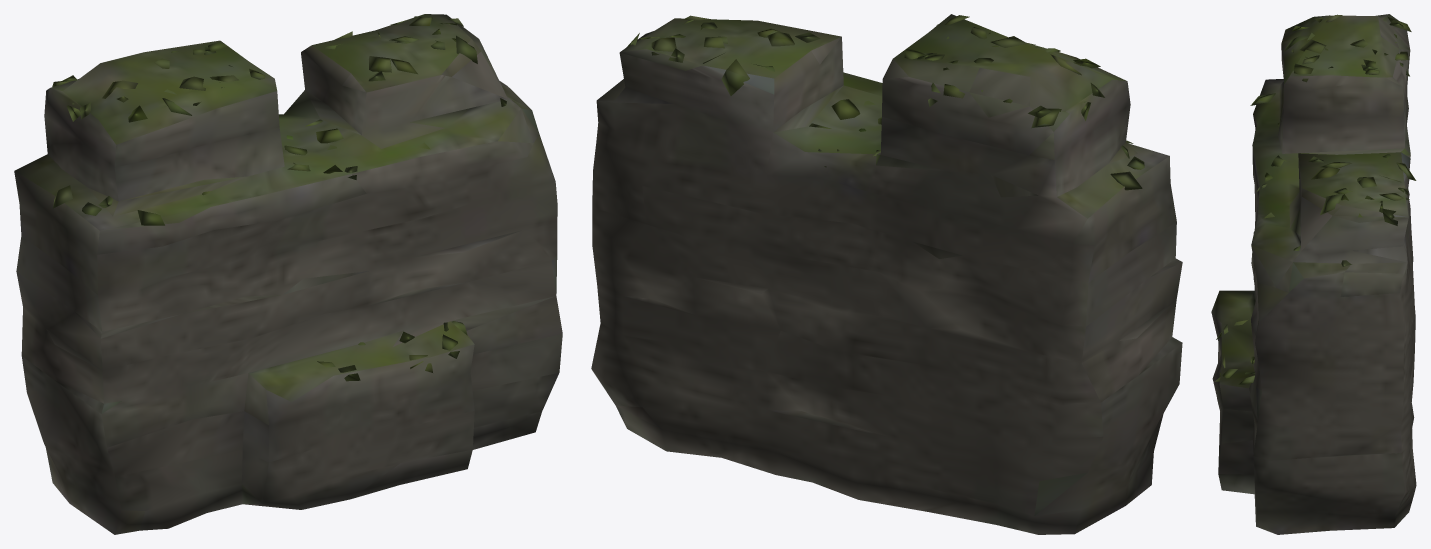
The model's file is cliff_a_lod2.glb.
3 renders of one model, left to right at view 1: azimuth 30°, elevation 25°; view 2: azimuth 150°, elevation 25°; view 3: azimuth 270°, elevation 25°, orthographic. The views are drawn at different scales.
Visible parts, largest first — view 1: cliff_a_lod2; view 2: cliff_a_lod2; view 3: cliff_a_lod2.
Boxes of the visible parts, x1,y1,x2,y2 form: cliff_a_lod2: (14,14,562,534); cliff_a_lod2: (591,14,1182,534); cliff_a_lod2: (1211,14,1416,534).
Size of the model in its own units: 10.3 by 8.72 by 4.46.
1 material, 1 textured.
